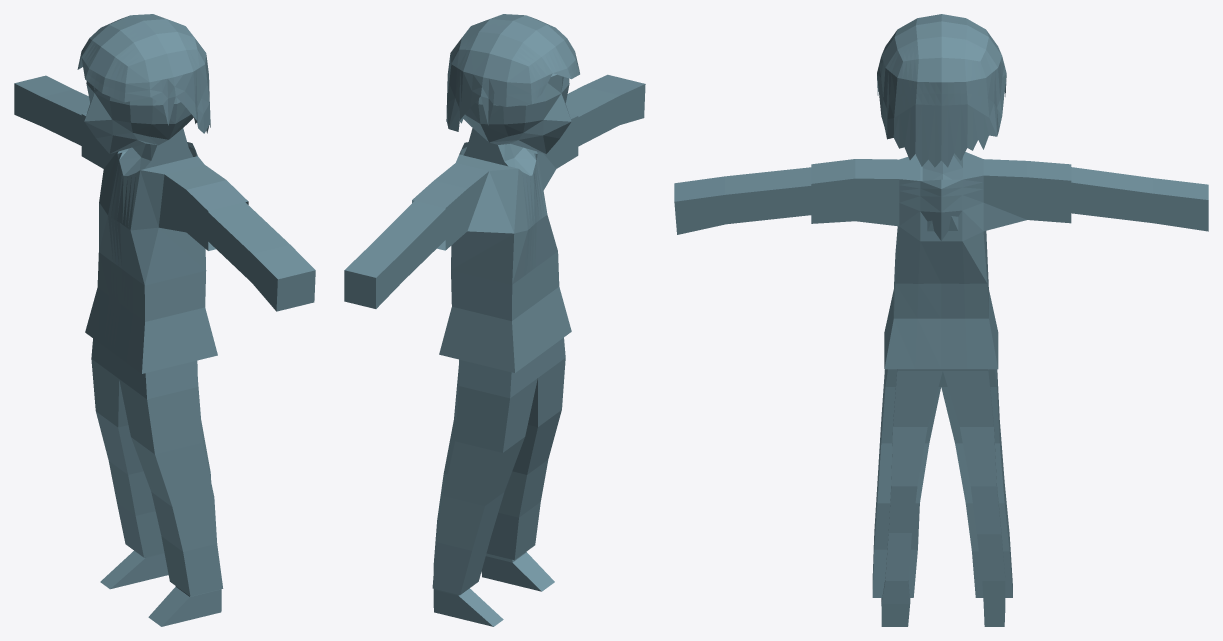
Rendered from charaModel.fbx.
The picture shows the model from 3 angles, left to right: view 1: azimuth 30°, elevation 25°; view 2: azimuth 150°, elevation 25°; view 3: azimuth 270°, elevation 25°; orthographic projection.
Visible parts, largest first — view 1: 立方体.001; view 2: 立方体.001; view 3: 立方体.001.
Part boxes in pixels (box(x1,y1,x2,y2)): 立方体.001: box(14, 14, 315, 626); 立方体.001: box(344, 14, 645, 626); 立方体.001: box(674, 14, 1208, 626).
Size of the model in its own units: 132 by 532 by 640.
Materials: 3 (3 with a texture image).
